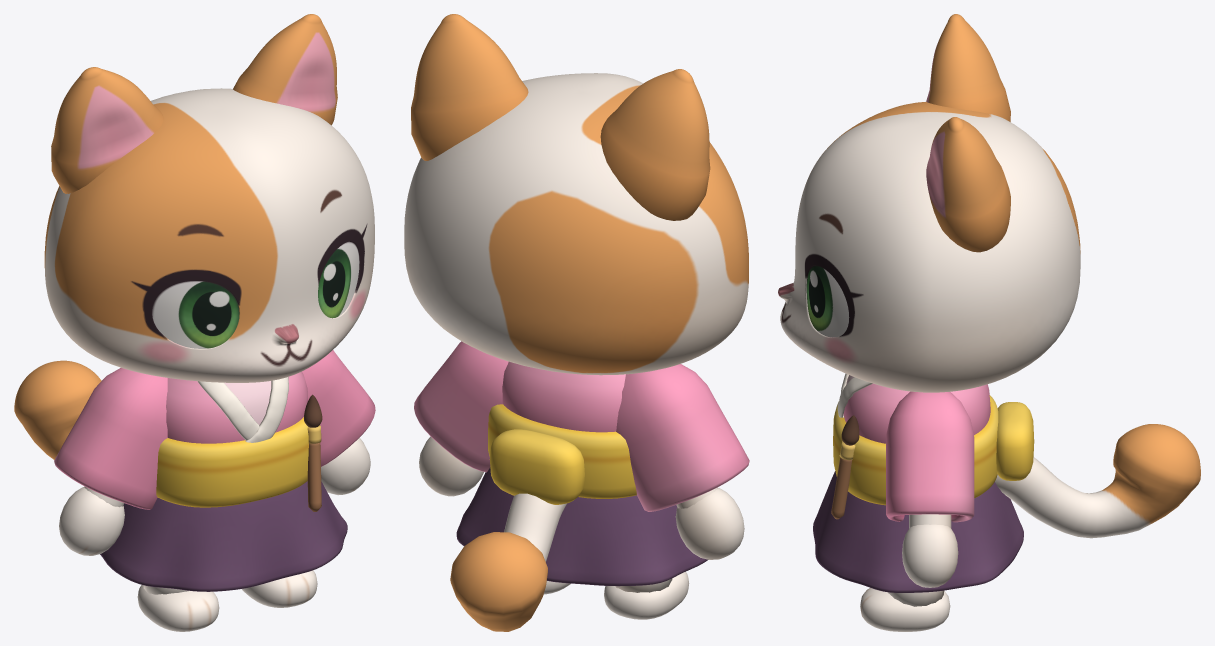
File: mochi-toy.glb
3 renders of one model, left to right at view 1: azimuth 30°, elevation 25°; view 2: azimuth 150°, elevation 25°; view 3: azimuth 270°, elevation 25°, orthographic. The views are drawn at different scales.
Visible parts, largest first — view 1: Mochi_head, Mochi_body, Mochi_arm_R, Mochi_ear_R, Mochi_ear_L, Mochi_arm_L, Mochi_tail, Mochi_eye_R, Mochi_leg_R, Mochi_eye_L, Mochi_leg_L; view 2: Mochi_head, Mochi_body, Mochi_arm_R, Mochi_ear_R, Mochi_ear_L, Mochi_tail, Mochi_arm_L, Mochi_leg_R; view 3: Mochi_head, Mochi_body, Mochi_arm_L, Mochi_tail, Mochi_ear_L, Mochi_ear_R, Mochi_leg_L, Mochi_eye_L.
Boxes of the visible parts, x1,y1,x2,y2 form: Mochi_head: (44,88,374,382); Mochi_body: (100,371,347,591); Mochi_arm_R: (54,368,167,555); Mochi_ear_R: (51,67,163,193); Mochi_ear_L: (233,14,337,125); Mochi_arm_L: (302,350,375,495); Mochi_tail: (14,360,101,459); Mochi_eye_R: (152,281,239,348); Mochi_leg_R: (137,585,219,631); Mochi_eye_L: (318,241,359,318); Mochi_leg_L: (242,570,317,607); Mochi_head: (404,73,748,375); Mochi_body: (456,361,708,586); Mochi_arm_R: (616,364,749,559); Mochi_ear_R: (600,69,710,220); Mochi_ear_L: (411,14,528,160); Mochi_tail: (450,493,566,631); Mochi_arm_L: (414,341,508,496); Mochi_leg_R: (604,571,689,619); Mochi_head: (778,102,1080,392); Mochi_body: (813,373,1034,592); Mochi_arm_L: (886,391,974,587); Mochi_tail: (995,424,1200,538); Mochi_ear_L: (926,117,1010,252); Mochi_ear_R: (926,14,1010,121); Mochi_leg_L: (860,587,950,631); Mochi_eye_L: (806,265,849,337).
Size of the model in its own units: 0.643 by 1.11 by 0.7965.
Materials: 1 (1 with a texture image).
